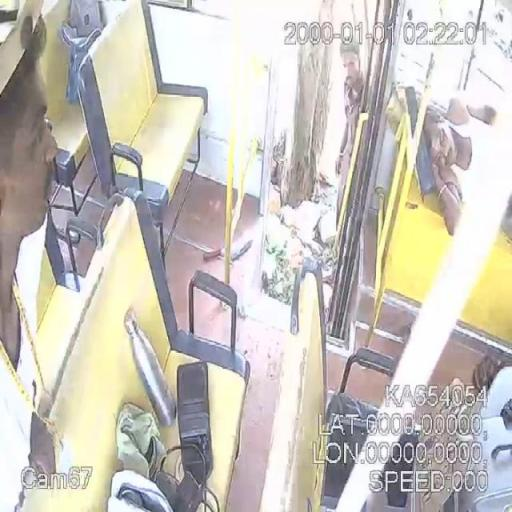persona: (0, 12, 61, 510), (420, 94, 498, 237), (334, 32, 372, 231)
